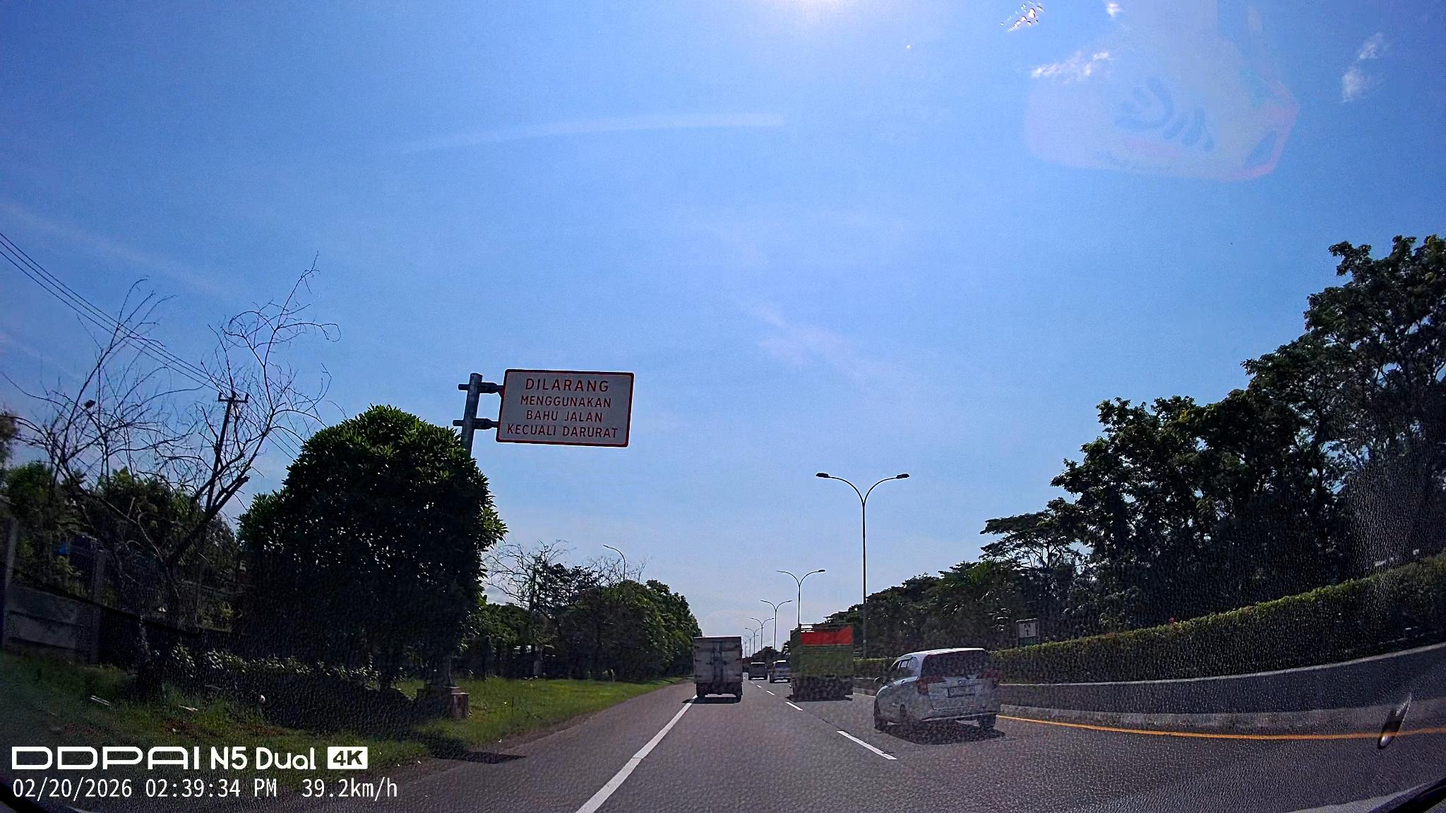rambu_teks: (494, 367, 635, 448)
